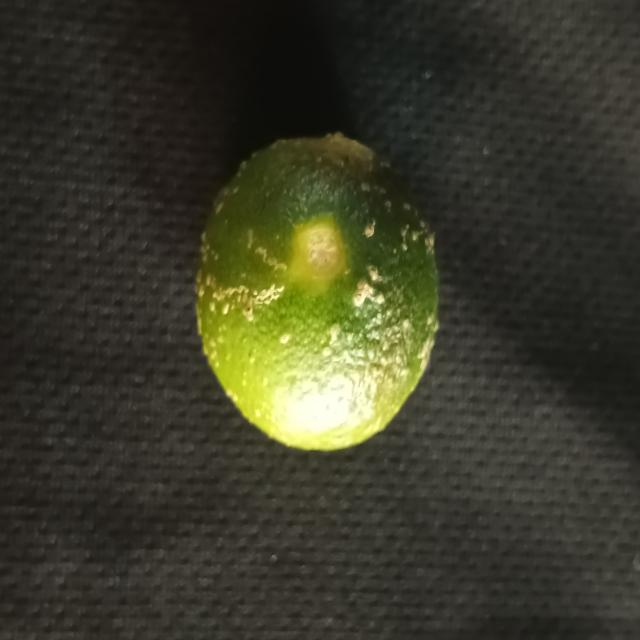scab: (194, 134, 444, 458)
